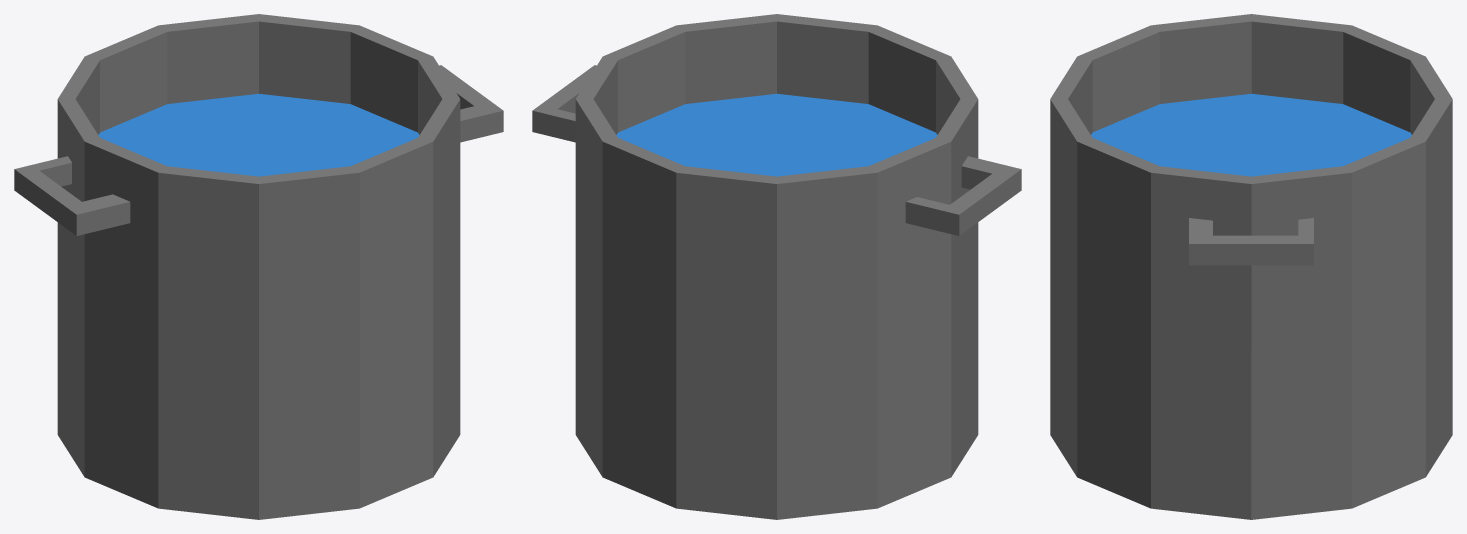
File: Pot.fbx
3 renders of one model, left to right at view 1: azimuth 30°, elevation 25°; view 2: azimuth 150°, elevation 25°; view 3: azimuth 270°, elevation 25°, orthographic.
Parts seen in each view (by area): view 1: Cylinder, Cube; view 2: Cylinder, Cube; view 3: Cylinder, Cube.
Part boxes in pixels (x1,y1,x2,y2): Cylinder: (57,14,460,519); Cube: (14,65,503,235); Cylinder: (575,14,978,519); Cube: (532,65,1021,235); Cylinder: (1050,14,1452,519); Cube: (1189,218,1313,265).
Size of the model in its own units: 245 by 184 by 200.
